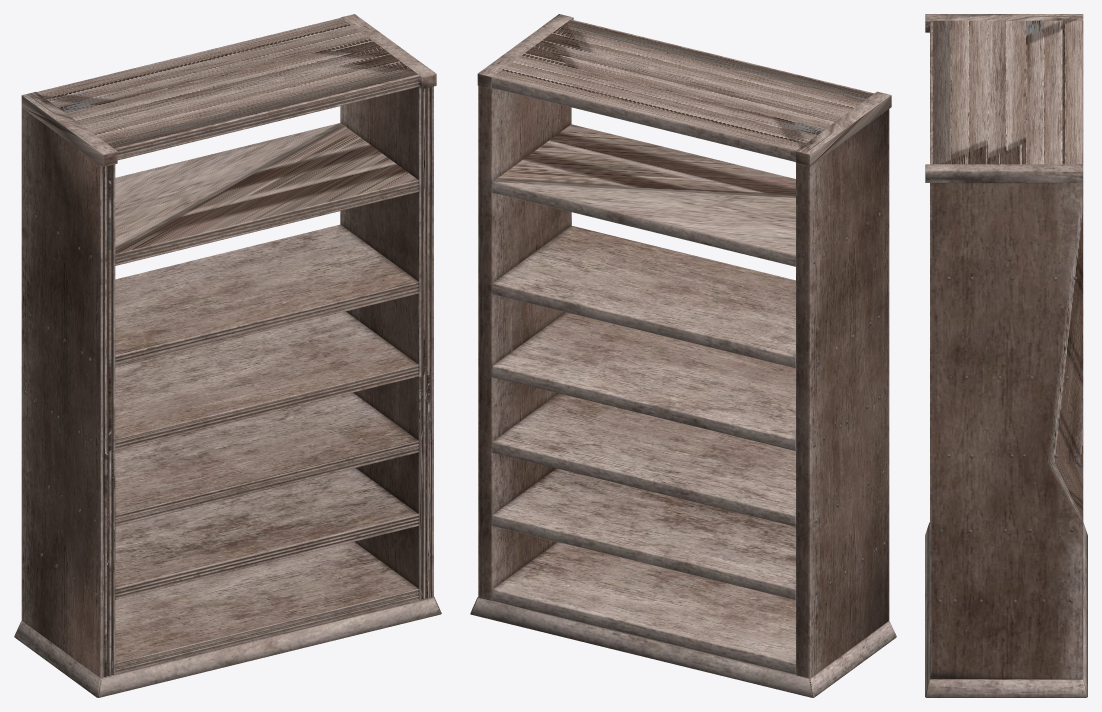
File: wooden_bookshelf_worn.glb
The picture shows the model from 3 angles, left to right: view 1: azimuth 30°, elevation 25°; view 2: azimuth 150°, elevation 25°; view 3: azimuth 270°, elevation 25°; orthographic projection. The views are drawn at different scales.
Parts seen in each view (by area): view 1: wooden_bookshelf_worn; view 2: wooden_bookshelf_worn; view 3: wooden_bookshelf_worn.
Boxes of the visible parts, left/top/right/bottom form: wooden_bookshelf_worn: left=14, top=14, right=441, bottom=697; wooden_bookshelf_worn: left=470, top=14, right=896, bottom=697; wooden_bookshelf_worn: left=925, top=14, right=1087, bottom=697.
Bounding box in the file's own units: 1.37 × 2.06 × 0.5814.
1 material, 1 textured.
